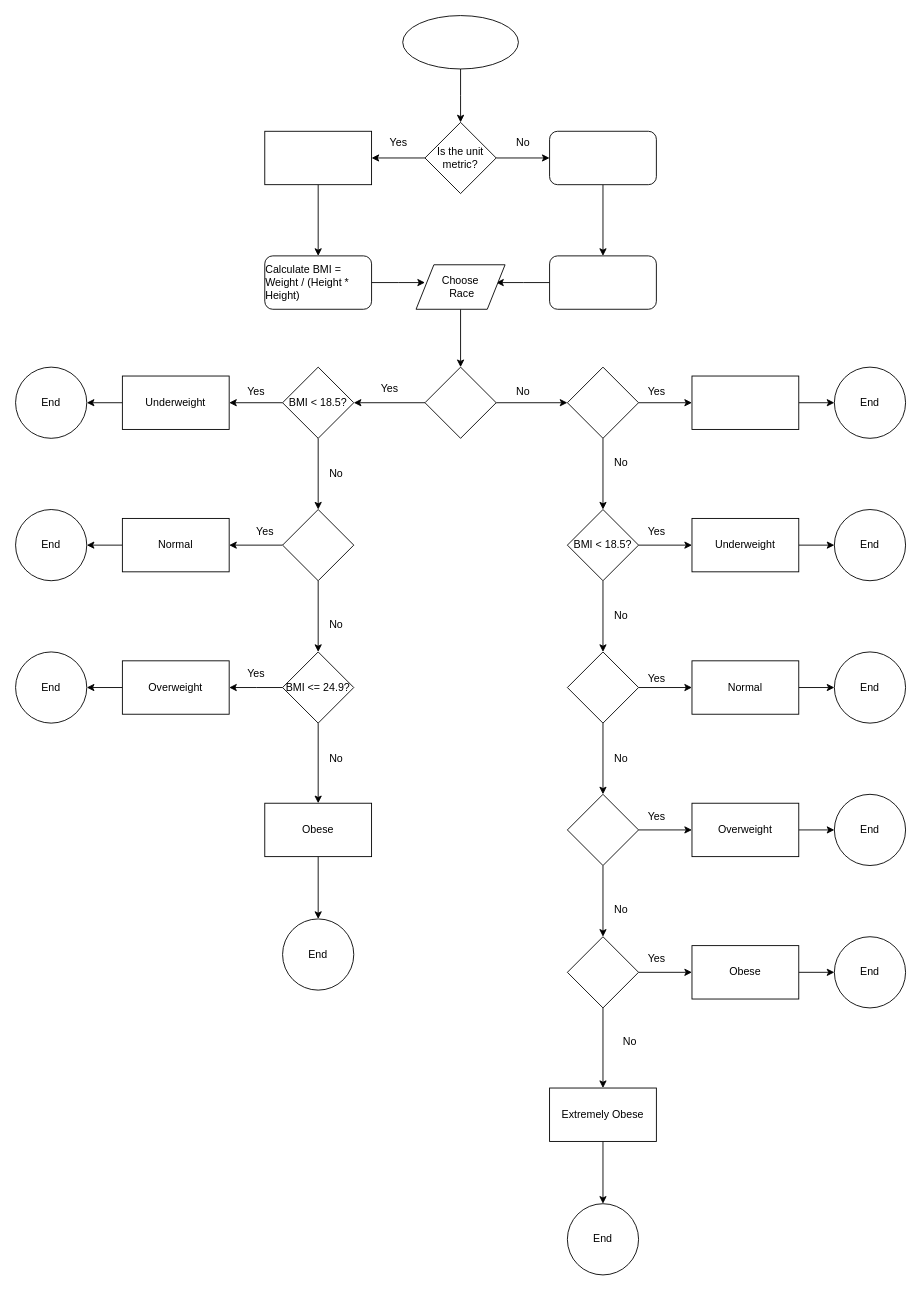
Some shapes in this 921 by 1291 pixel diagram are drawn without their labels. The box of each missing label's shape, as (x1, y1, x2, y2) in pixels:
BMI < 16.0?: (566, 366, 639, 438)
BMI < 25.0?: (566, 651, 639, 723)
BMI < 30.0?: (566, 793, 639, 866)
BMI < 40.0?: (566, 936, 639, 1008)
BMI <= 22.9?: (282, 509, 354, 581)
Calculate BMI = (Weight * 703) / (Height * Height): (549, 255, 656, 309)
Input weight and height in Metric: (264, 130, 372, 185)
Input weight and hight in Imperial: (549, 130, 656, 185)
Is the race Asian?: (424, 366, 496, 438)
Severely underweight: (691, 375, 799, 429)
Start: (402, 15, 518, 69)
